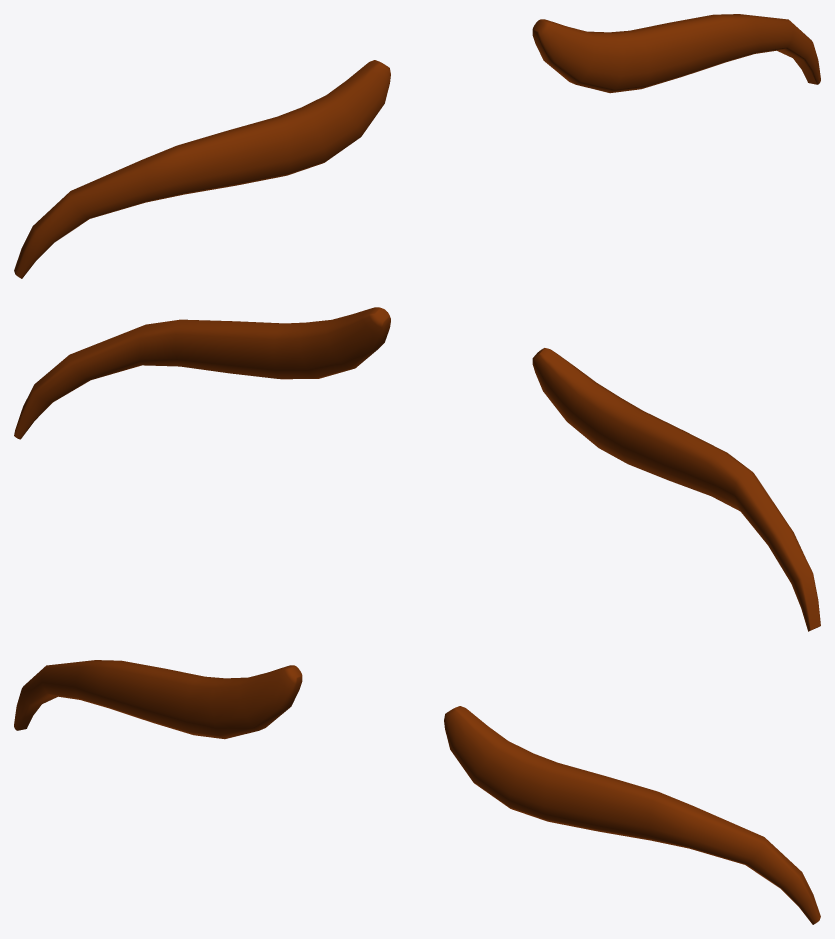
The model's file is Eyebrows_21_02.fbx.
3 renders of one model, top to bottom at view 1: azimuth 30°, elevation 25°; view 2: azimuth 150°, elevation 25°; view 3: azimuth 330°, elevation 25°, orthographic.
Visible parts, largest first — view 1: Eyebrows_21_02; view 2: Eyebrows_21_02; view 3: Eyebrows_21_02.
Part boxes in pixels (left/top/right/bottom): Eyebrows_21_02: left=14, top=14, right=820, bottom=278; Eyebrows_21_02: left=14, top=307, right=820, bottom=631; Eyebrows_21_02: left=14, top=660, right=820, bottom=924.
Bounding box in the file's own units: 18.62 × 3.81 × 2.44.
